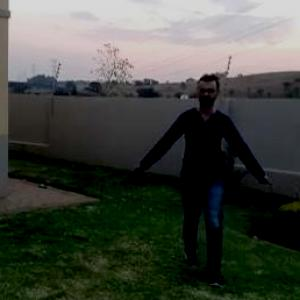land: (140, 66, 284, 288)
